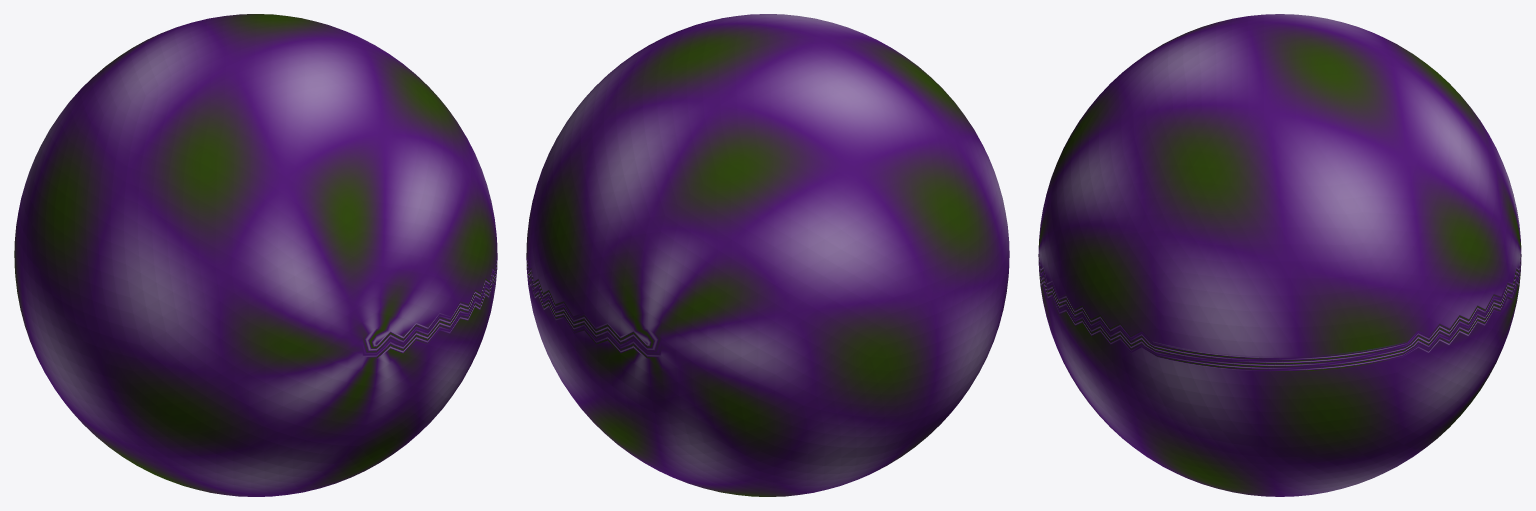
The model's file is sphere-cosmic-c1.glb.
The picture shows the model from 3 angles, left to right: view 1: azimuth 30°, elevation 25°; view 2: azimuth 150°, elevation 25°; view 3: azimuth 270°, elevation 25°; orthographic projection.
Visible parts, largest first — view 1: world; view 2: world; view 3: world.
Part boxes in pixels (x1,y1,x2,y2): world: [14, 14, 497, 496]; world: [526, 14, 1009, 496]; world: [1038, 14, 1521, 496].
Bounding box in the file's own units: 1.2 × 1.2 × 1.2.
1 material, 1 textured.
